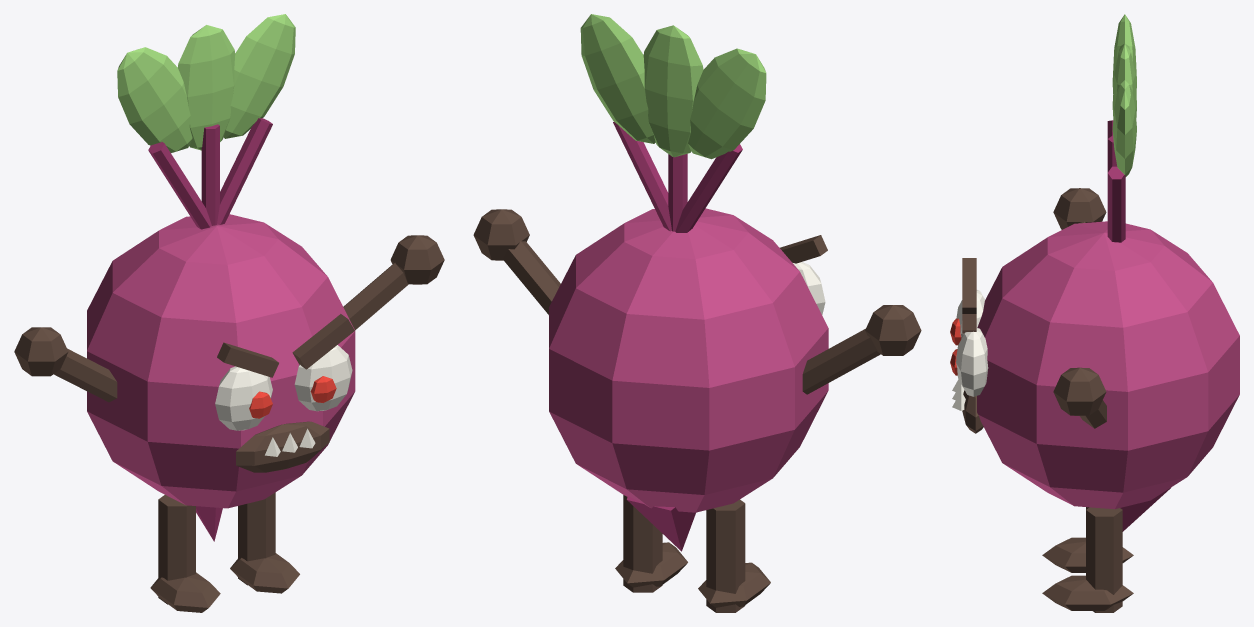
Rendered from MiniBeet.fbx.
The picture shows the model from 3 angles, left to right: view 1: azimuth 30°, elevation 25°; view 2: azimuth 150°, elevation 25°; view 3: azimuth 270°, elevation 25°; orthographic projection. The views are drawn at different scales.
Parts seen in each view (by area): view 1: MiniBeet; view 2: MiniBeet; view 3: MiniBeet.
Boxes of the visible parts, x1,y1,x2,y2 form: MiniBeet: (14, 14, 444, 612); MiniBeet: (473, 14, 921, 612); MiniBeet: (950, 14, 1239, 612).
Size of the model in its own units: 1.15 by 1.47 by 0.7091.
